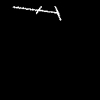double_crochet: (14, 6, 60, 19)
